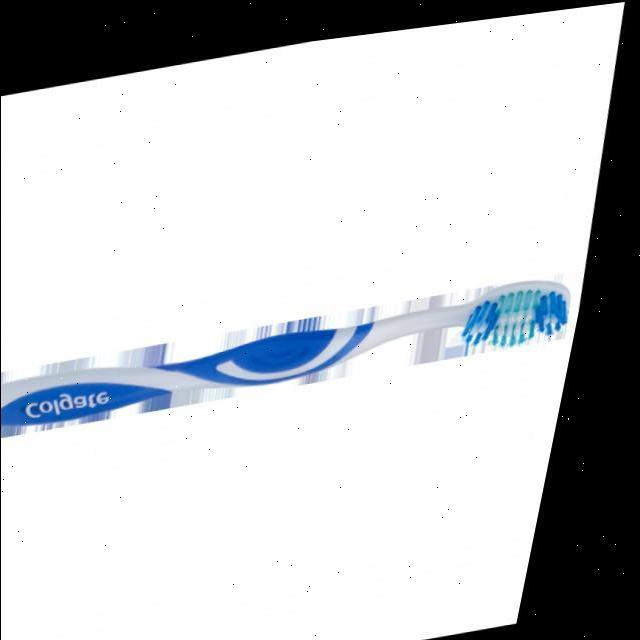toothbrush: (0, 266, 594, 444)
